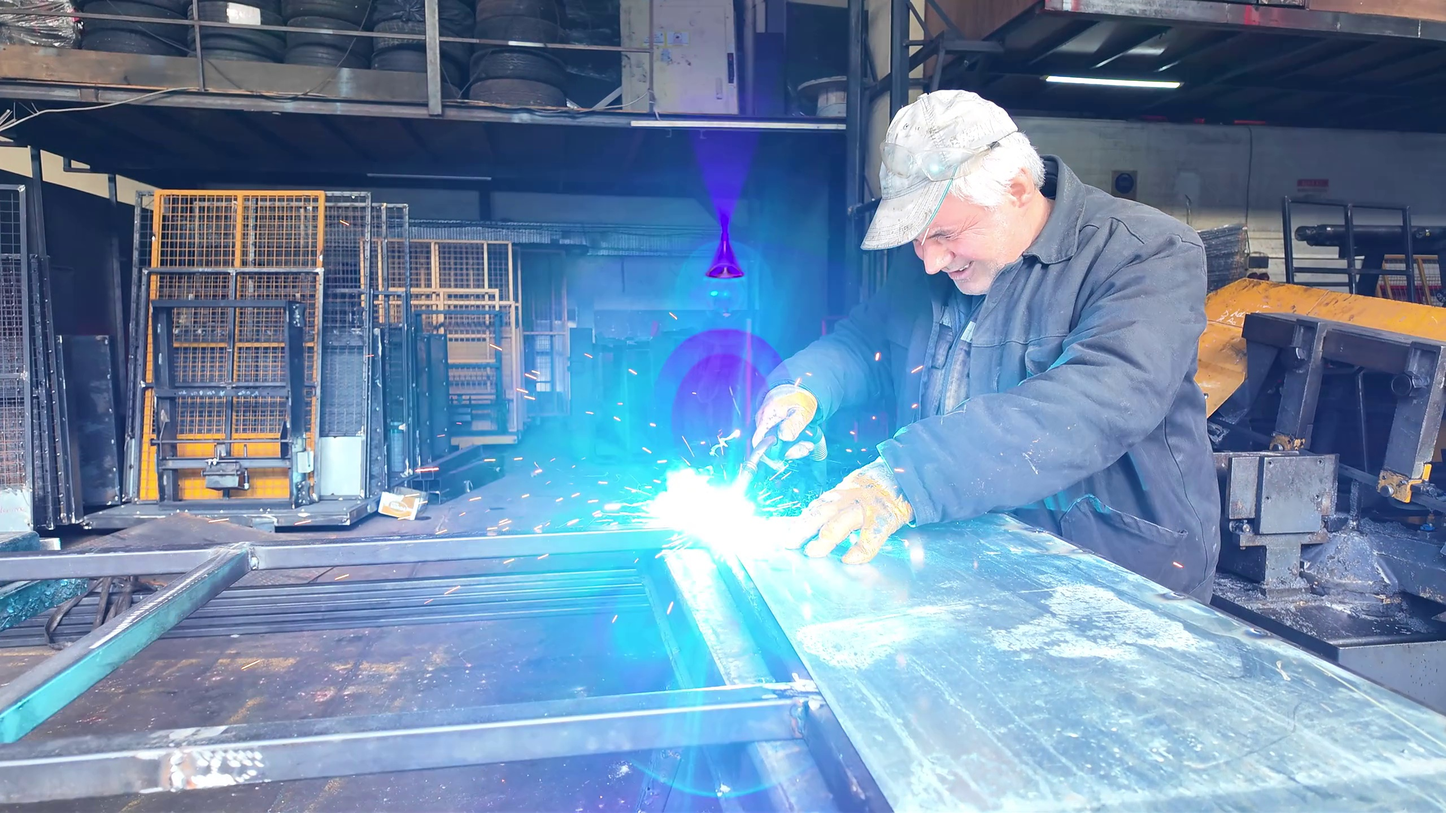person: (752, 89, 1225, 605)
